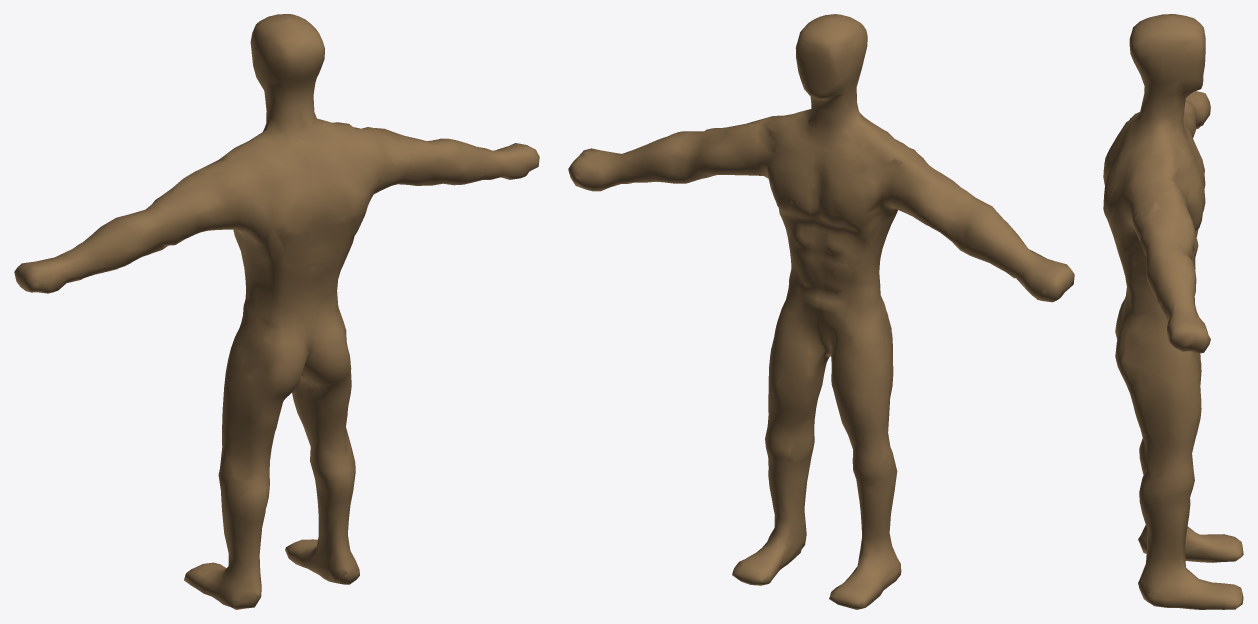
Rendered from torso.fbx.
The picture shows the model from 3 angles, left to right: view 1: azimuth 30°, elevation 25°; view 2: azimuth 150°, elevation 25°; view 3: azimuth 270°, elevation 25°; orthographic projection. The views are drawn at different scales.
Parts seen in each view (by area): view 1: Cube.003; view 2: Cube.003; view 3: Cube.003.
Part boxes in pixels (<box>): Cube.003: <box>14,14,539,609</box>; Cube.003: <box>568,14,1074,609</box>; Cube.003: <box>1103,14,1243,609</box>.
Size of the model in its own units: 118 by 487 by 526.
